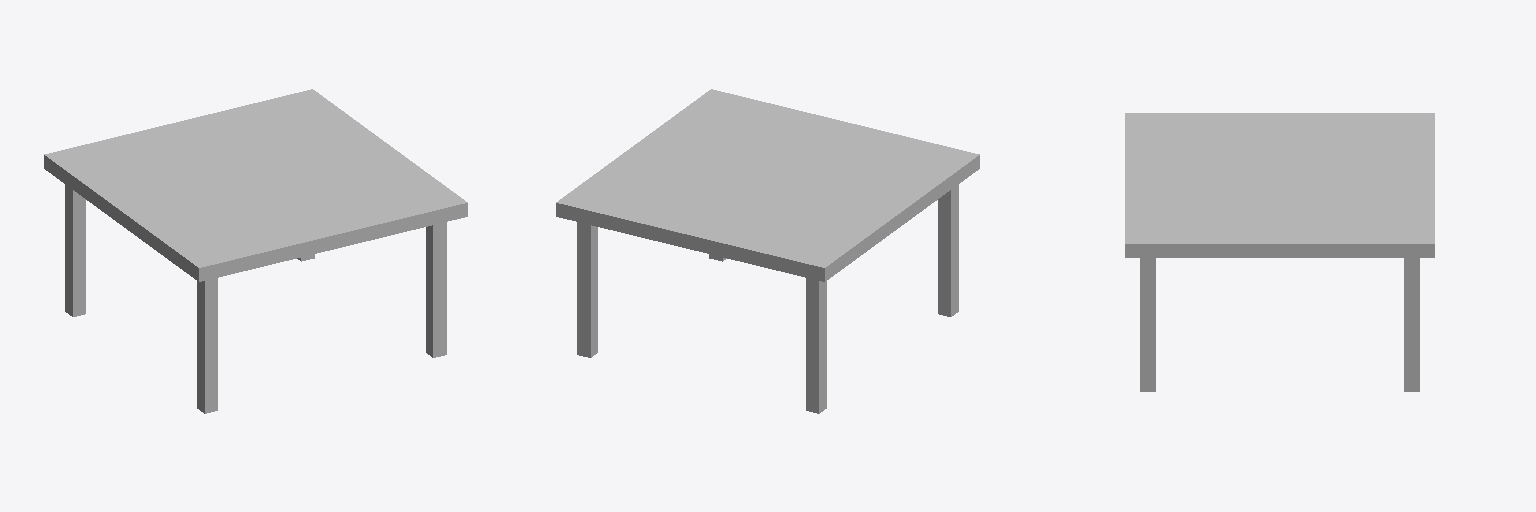
The model's file is assorted_props-01-table.obj.
3 renders of one model, left to right at view 1: azimuth 30°, elevation 25°; view 2: azimuth 150°, elevation 25°; view 3: azimuth 270°, elevation 25°, orthographic.
Parts seen in each view (by area): view 1: Cube.003_Cube.009, Cube.001_Cube.008; view 2: Cube.003_Cube.009, Cube.001_Cube.008; view 3: Cube.003_Cube.009, Cube.001_Cube.008.
Part boxes in pixels (x1,y1,x2,y2): Cube.003_Cube.009: (44,89,467,281); Cube.001_Cube.008: (65,184,446,413); Cube.003_Cube.009: (556,89,979,281); Cube.001_Cube.008: (577,184,958,413); Cube.003_Cube.009: (1125,113,1434,257); Cube.001_Cube.008: (1140,258,1419,391).
Size of the model in its own units: 2 by 1.1 by 2.